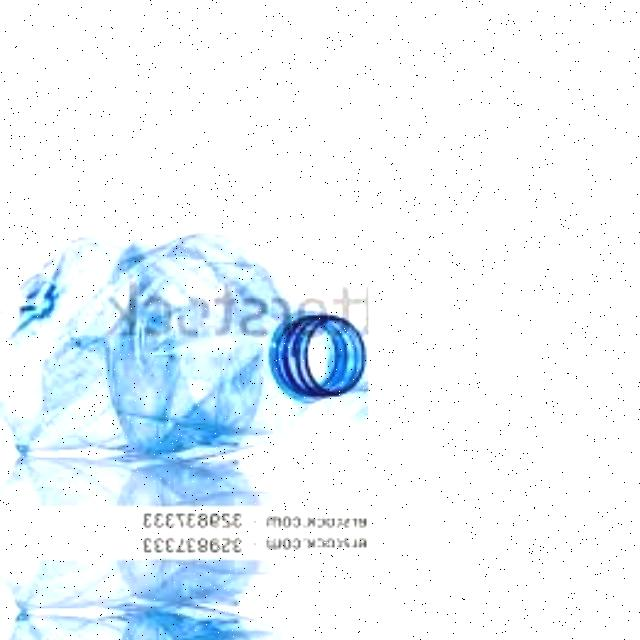Plastic: (0, 197, 391, 493), (0, 571, 391, 640), (0, 0, 391, 17)
